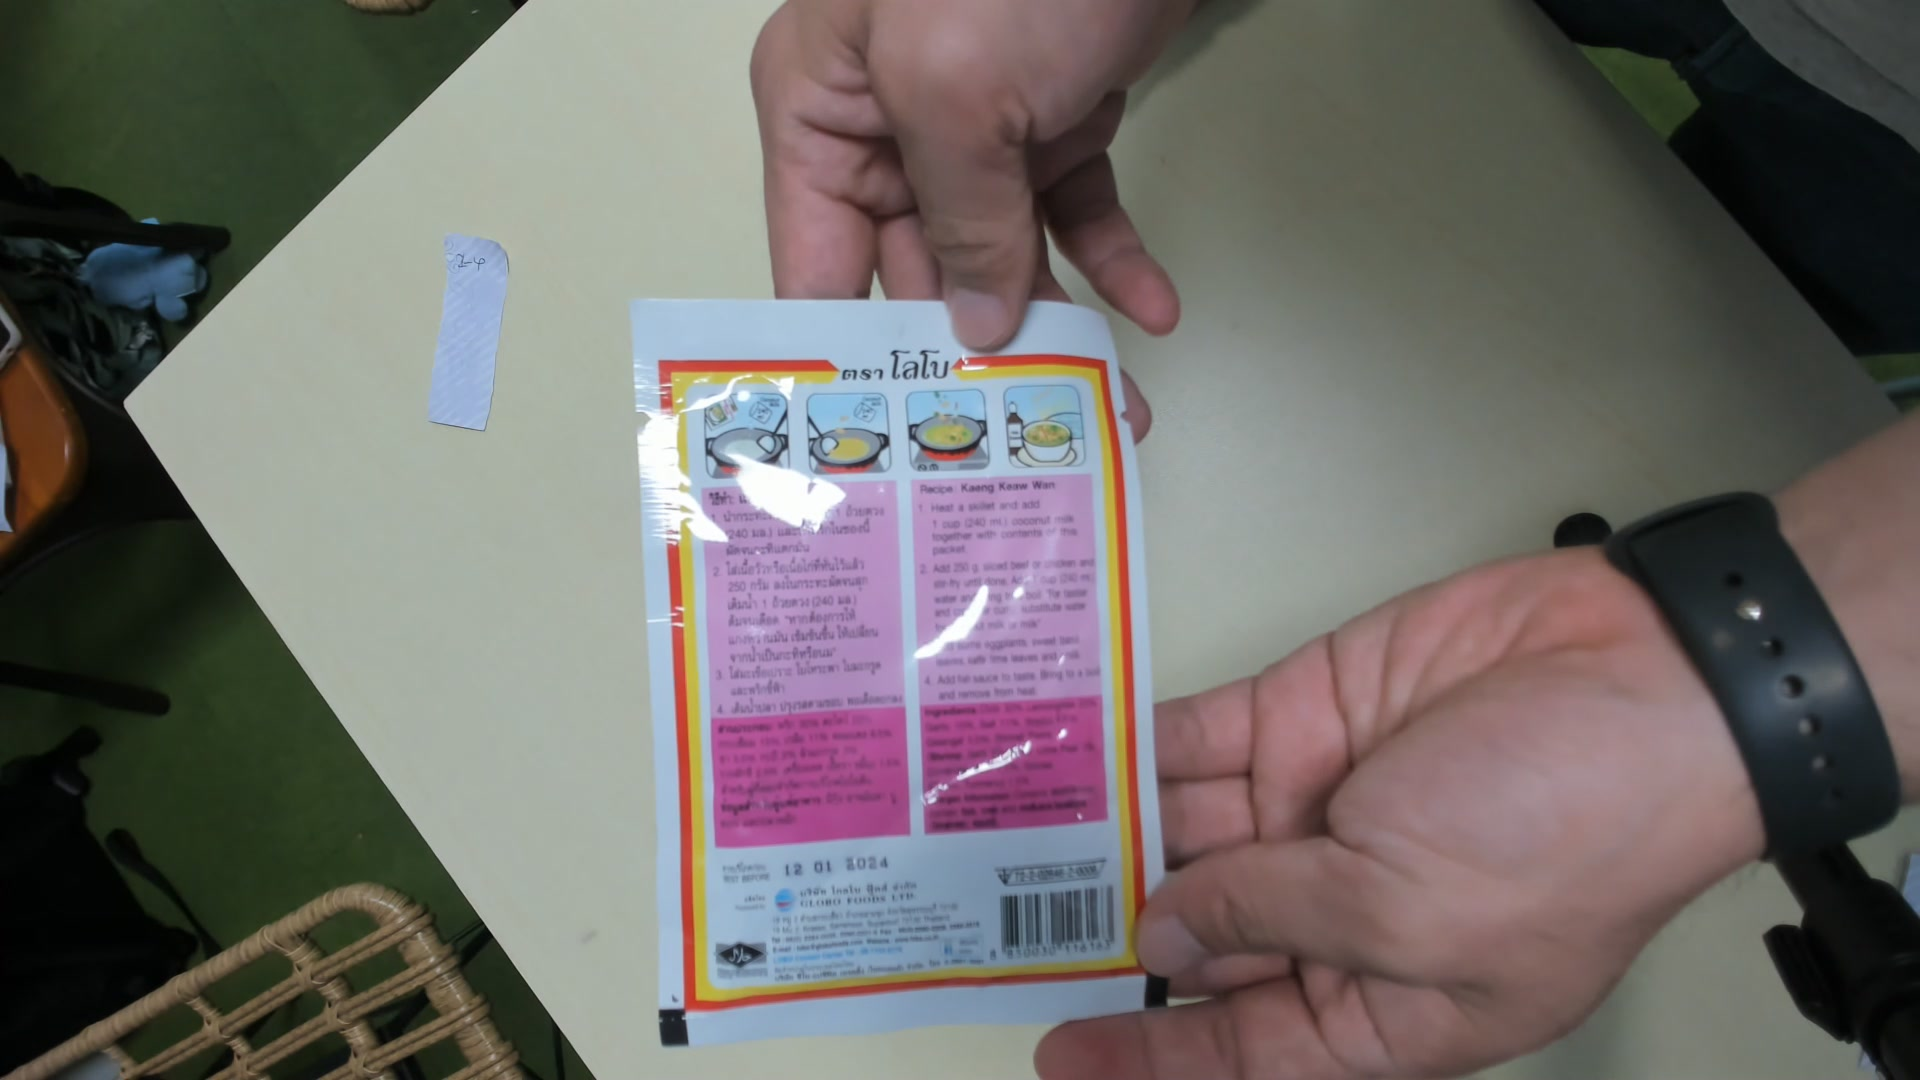OtherSauceDressing_0-99g_Halal_NonHealthy: (633, 295, 1168, 1036)
